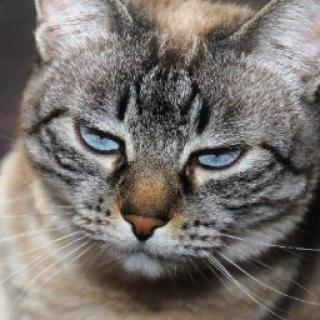cat: (31, 0, 314, 293)
nose: (111, 171, 190, 246)
